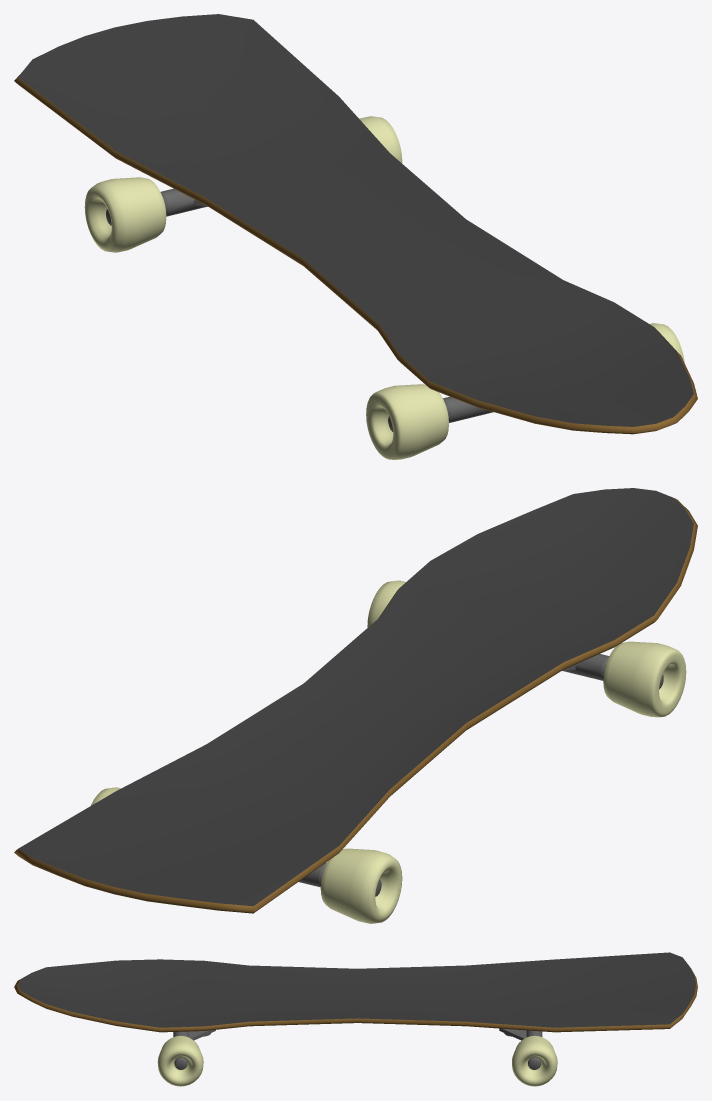
Rendered from longBoard_high.fbx.
3 views of the same model, one above another, from view 1: azimuth 30°, elevation 25°; view 2: azimuth 150°, elevation 25°; view 3: azimuth 270°, elevation 25° (orthographic). The views are drawn at different scales.
Parts seen in each view (by area): view 1: deck, wheel, wheel1, spokes_Back (×2), wheel3; view 2: deck, wheel, wheel1, spokes_Back, wheel2; view 3: deck, wheel2, wheel3, spokes_Back (×2).
Boxes of the visible parts, x1,y1,x2,y2 form: deck: [14, 14, 697, 434]; wheel: [366, 384, 448, 459]; wheel1: [84, 177, 166, 252]; spokes_Back (×2): [106, 188, 493, 431]; wheel3: [359, 116, 402, 163]; deck: [14, 488, 697, 913]; wheel: [603, 641, 686, 717]; wheel1: [320, 848, 402, 923]; spokes_Back: [562, 654, 663, 689]; wheel2: [367, 580, 405, 627]; deck: [14, 952, 697, 1032]; wheel2: [157, 1035, 203, 1086]; wheel3: [512, 1035, 557, 1086]; spokes_Back (×2): [173, 1028, 542, 1069].
Size of the model in its own units: 10.35 by 3.29 by 33.86.
